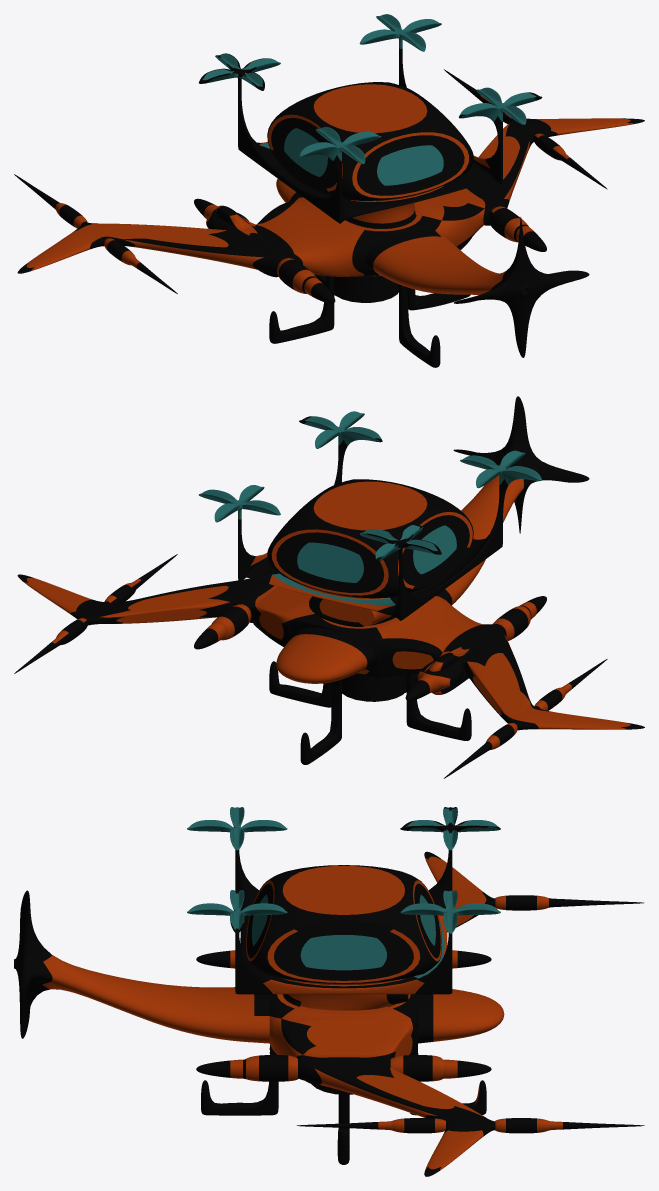
Rendered from Lander.obj.
3 renders of one model, top to bottom at view 1: azimuth 30°, elevation 25°; view 2: azimuth 150°, elevation 25°; view 3: azimuth 270°, elevation 25°, orthographic. The views are drawn at different scales.
Parts seen in each view (by area): view 1: pCube1, pCylinder1; view 2: pCube1, pCylinder1; view 3: pCube1.
Boxes of the visible parts, bbox=[...] form: pCube1: bbox=[14, 14, 644, 367]; pCylinder1: bbox=[334, 275, 398, 302]; pCube1: bbox=[14, 396, 644, 778]; pCylinder1: bbox=[342, 673, 406, 701]; pCube1: bbox=[14, 807, 644, 1176].
Bounding box in the file's own units: 9.17 × 3.29 × 7.52.
